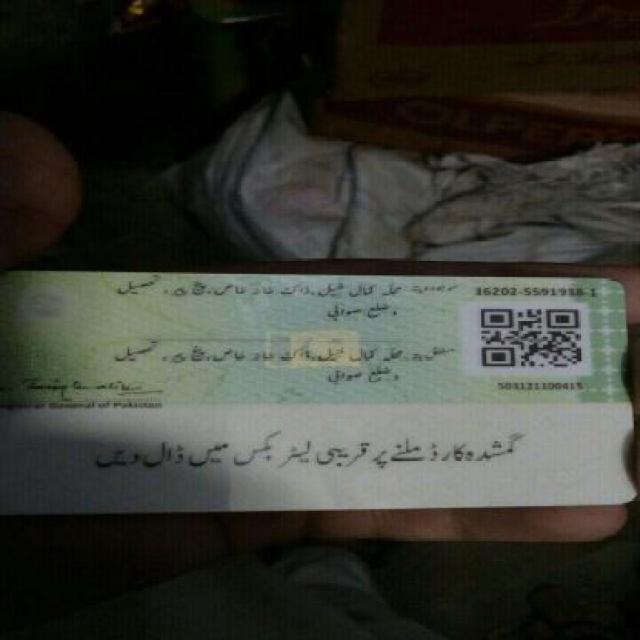Back: (16, 262, 626, 510)
